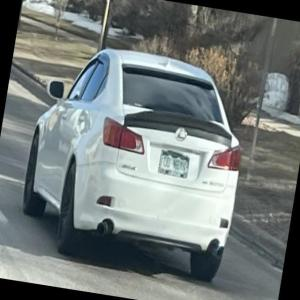Plate: (158, 148, 191, 178)
